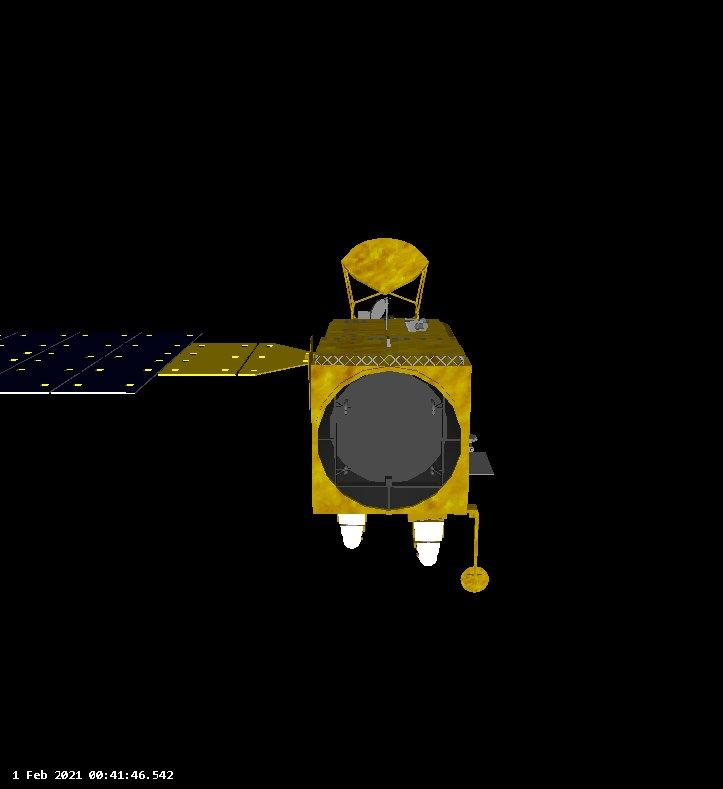antenna: (341, 236, 430, 294), (459, 553, 490, 593), (369, 296, 387, 321)
body: (307, 316, 474, 517)
solar: (0, 324, 210, 400)
thruster: (413, 322, 424, 330)
